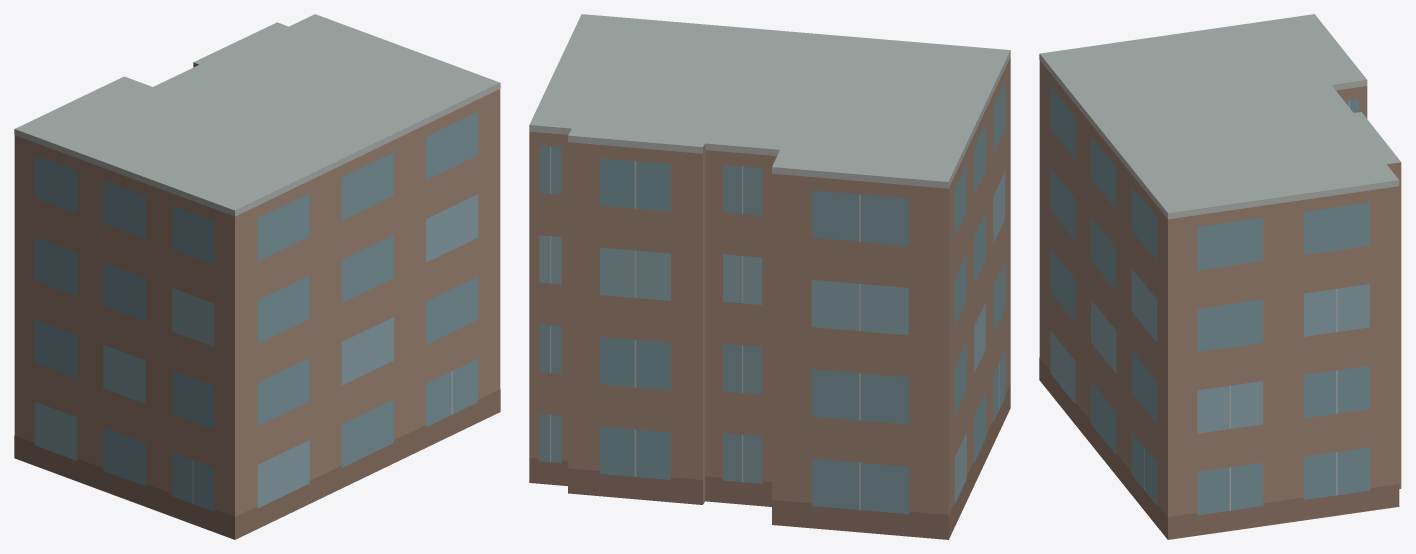
Rendered from survey-upis-32706225.glb.
3 views of the same model, side by side, from view 1: azimuth 30°, elevation 25°; view 2: azimuth 150°, elevation 25°; view 3: azimuth 270°, elevation 25° (orthographic). The views are drawn at different scales.
Parts seen in each view (by area): view 1: survey-upis-32706225.tmp; view 2: survey-upis-32706225.tmp; view 3: survey-upis-32706225.tmp.
Boxes of the visible parts, left/top/right/bottom form: survey-upis-32706225.tmp: left=14, top=14, right=500, bottom=539; survey-upis-32706225.tmp: left=529, top=14, right=1010, bottom=539; survey-upis-32706225.tmp: left=1039, top=14, right=1401, bottom=539.
Bounding box in the file's own units: 17.35 × 13.25 × 13.32.
